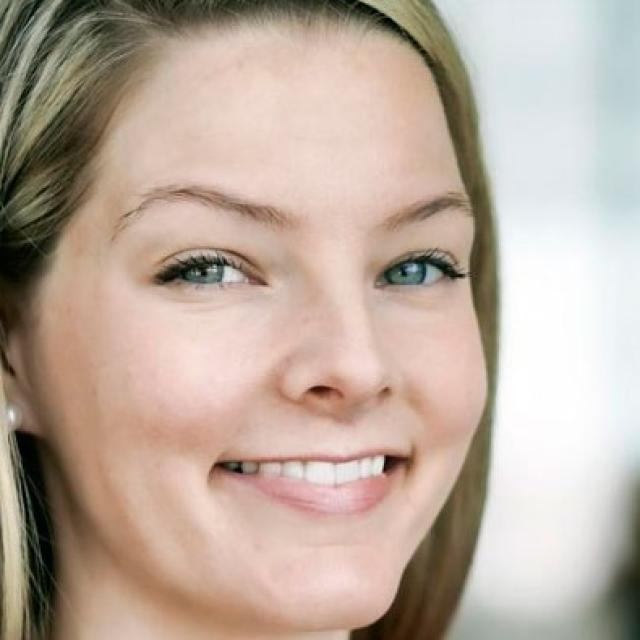Normal: (37, 23, 489, 630)
